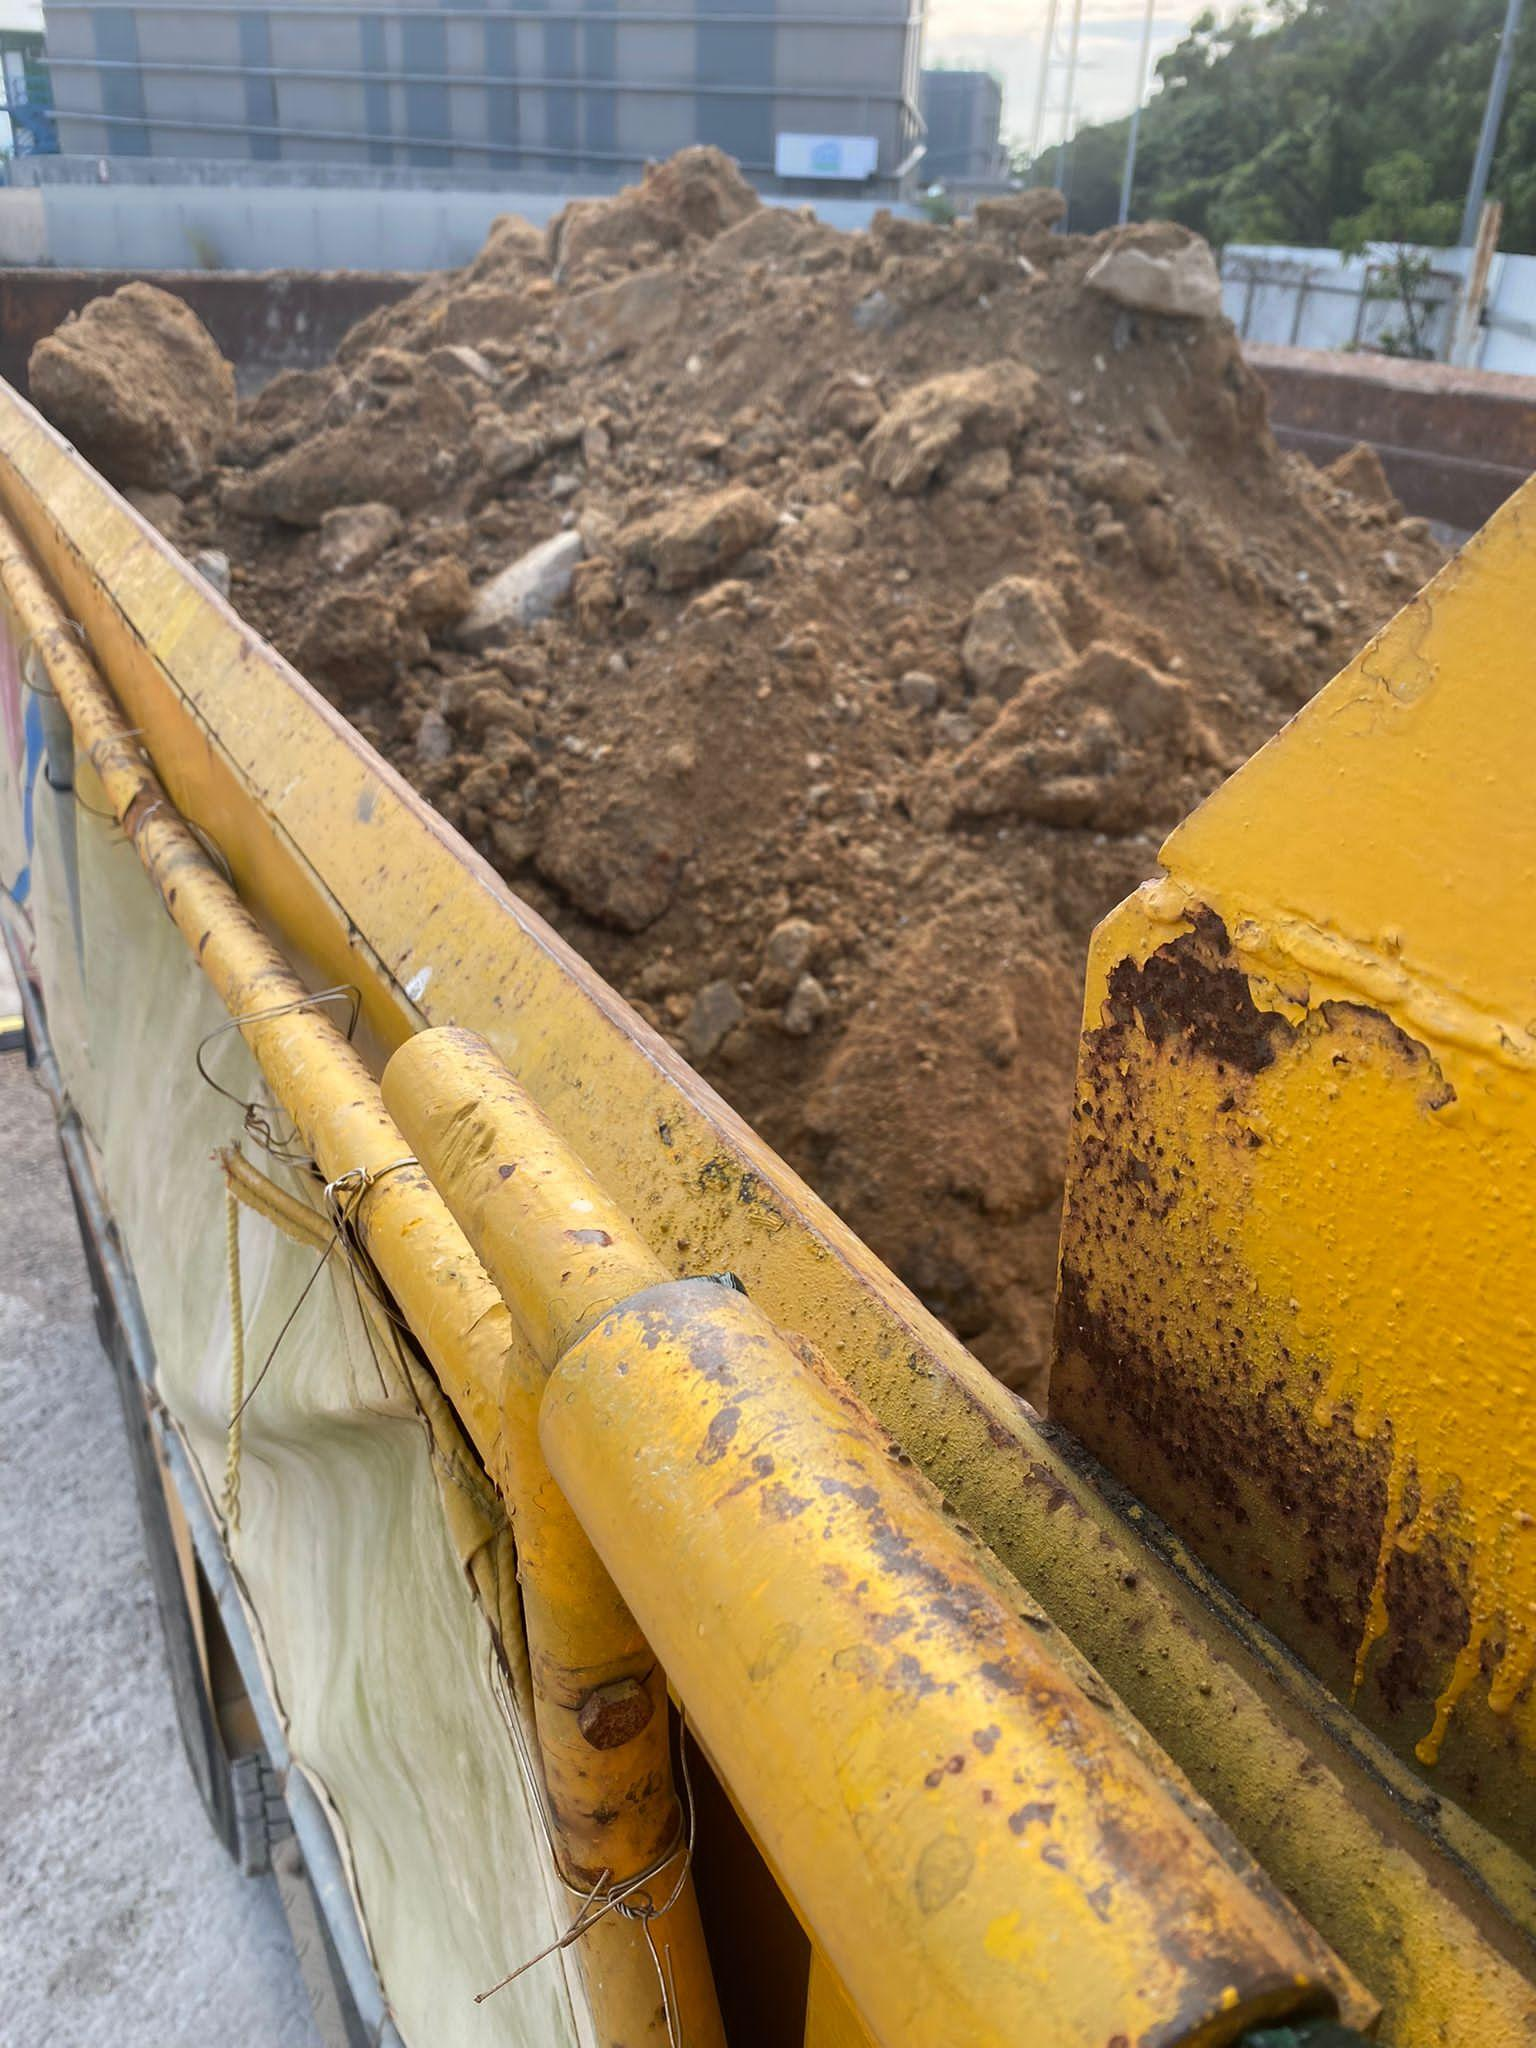stone: (23, 139, 1450, 1409), (1042, 461, 1534, 1861), (24, 277, 239, 492)
